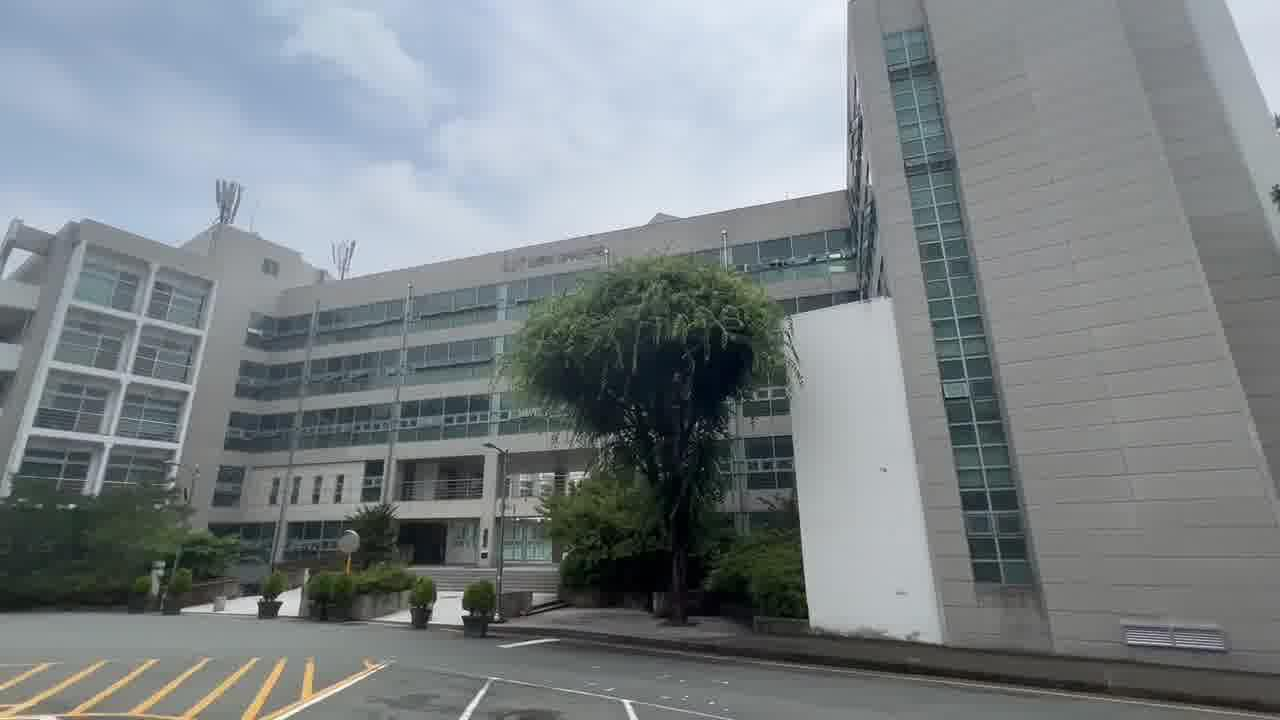building: (26, 200, 518, 513)
